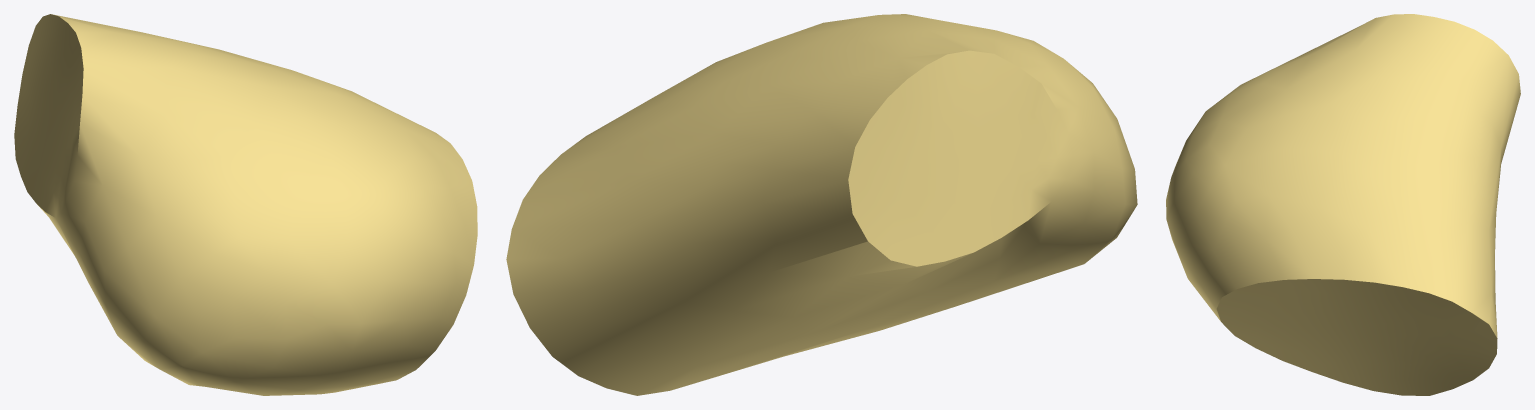
The model's file is fma77529-l_mm2595.glb.
3 views of the same model, side by side, from view 1: azimuth 30°, elevation 25°; view 2: azimuth 150°, elevation 25°; view 3: azimuth 270°, elevation 25° (orthographic). The views are drawn at different scales.
Visible parts, largest first — view 1: FMA77529-L_MM2595; view 2: FMA77529-L_MM2595; view 3: FMA77529-L_MM2595.
Boxes of the visible parts, box(x1,y1,x2,y2) form: FMA77529-L_MM2595: box(14, 14, 477, 395); FMA77529-L_MM2595: box(506, 14, 1137, 395); FMA77529-L_MM2595: box(1166, 14, 1520, 395).
Size of the model in its own units: 0.00325 by 0.00273 by 0.00308.
